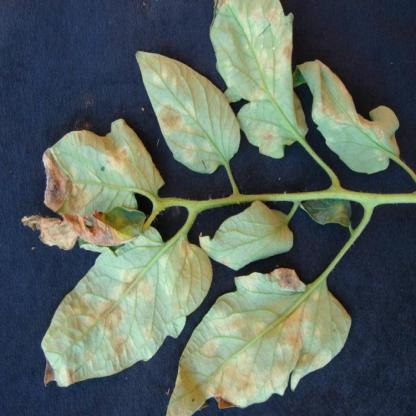tomato mold leaf: (149, 263, 367, 415), (38, 217, 220, 393), (209, 1, 311, 164), (135, 39, 245, 173), (299, 55, 401, 172), (47, 116, 164, 212), (204, 202, 302, 275)
